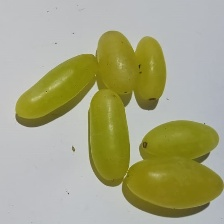grapes: (24, 25, 180, 181)
